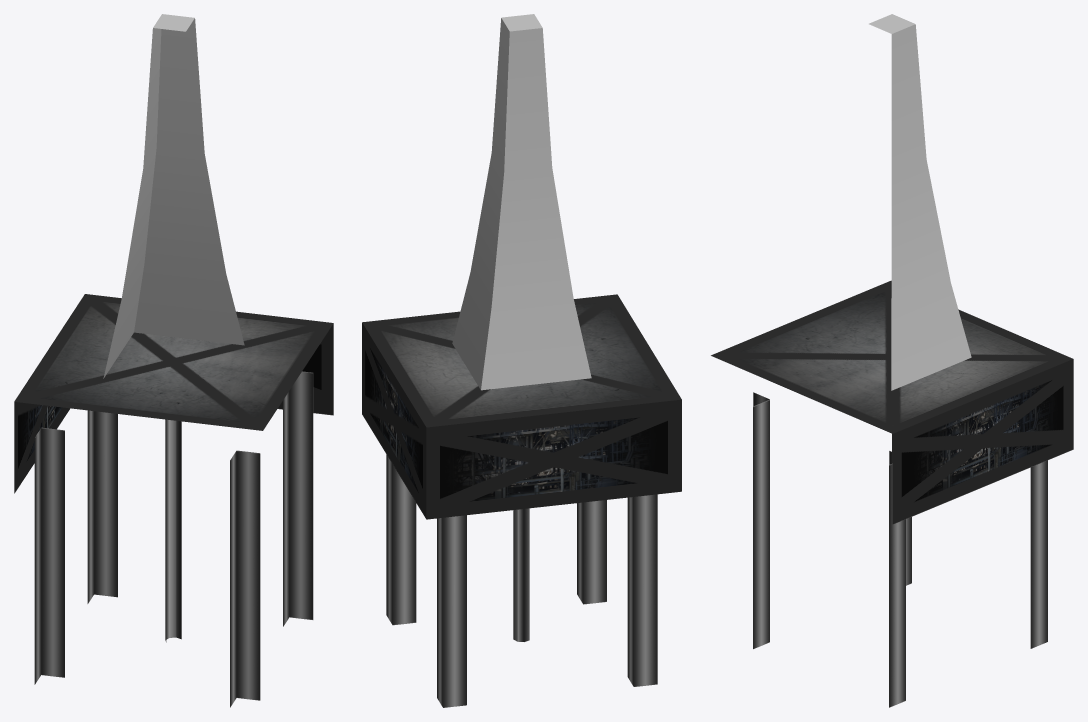
The model's file is Drill.fbx.
3 renders of one model, left to right at view 1: azimuth 30°, elevation 25°; view 2: azimuth 150°, elevation 25°; view 3: azimuth 270°, elevation 25°, orthographic.
Visible parts, largest first — view 1: DrillModel; view 2: DrillModel; view 3: DrillModel.
Boxes of the visible parts, box(x1,y1,x2,y2) form: DrillModel: box(14, 14, 333, 707); DrillModel: box(362, 14, 681, 707); DrillModel: box(711, 14, 1073, 707).
Size of the model in its own units: 57.2 by 107 by 57.19.
